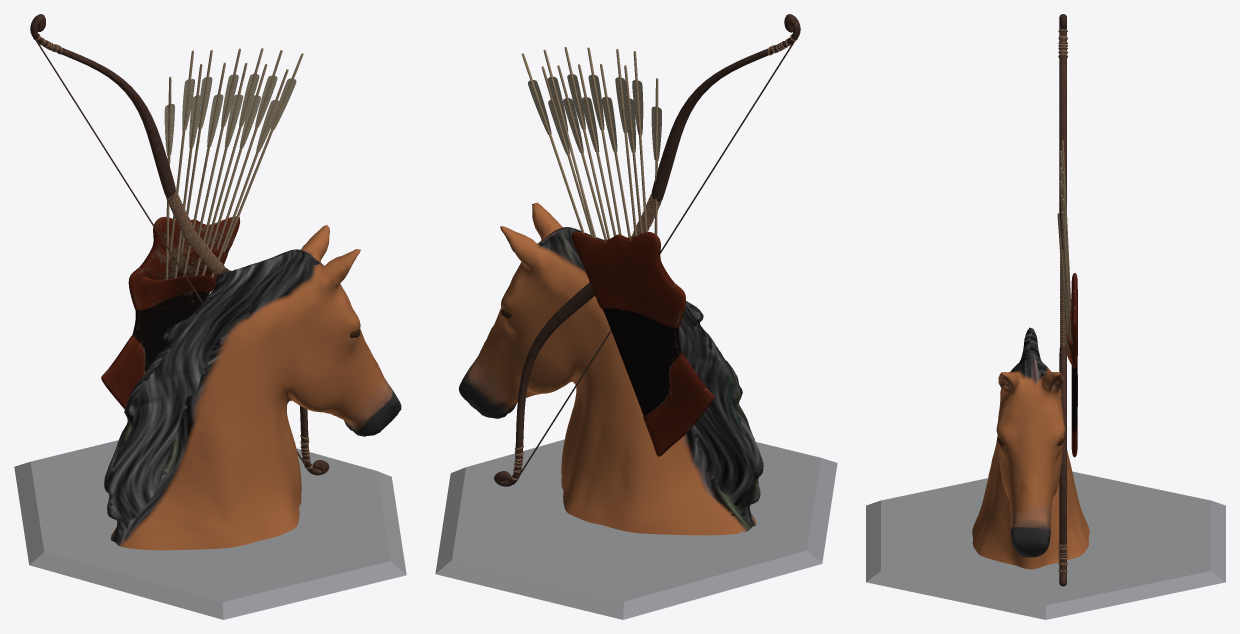
Rendered from Calvalry Ranged.fbx.
3 renders of one model, left to right at view 1: azimuth 30°, elevation 25°; view 2: azimuth 150°, elevation 25°; view 3: azimuth 270°, elevation 25°, orthographic. The views are drawn at different scales.
Visible parts, largest first — view 1: Piece Base.007; view 2: Piece Base.007; view 3: Piece Base.007.
Part boxes in pixels (x1,y1,x2,y2): Piece Base.007: [14, 14, 406, 619]; Piece Base.007: [435, 14, 837, 619]; Piece Base.007: [866, 14, 1225, 619].
Size of the model in its own units: 99 by 141 by 99.
